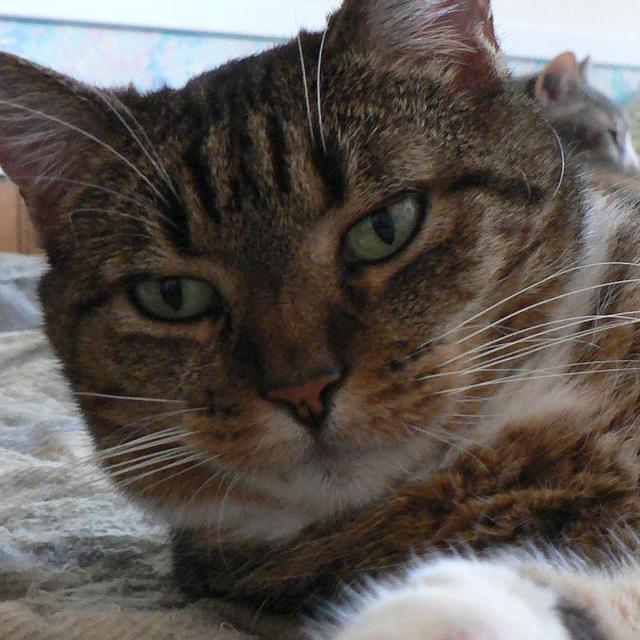animals: (0, 0, 501, 420)
